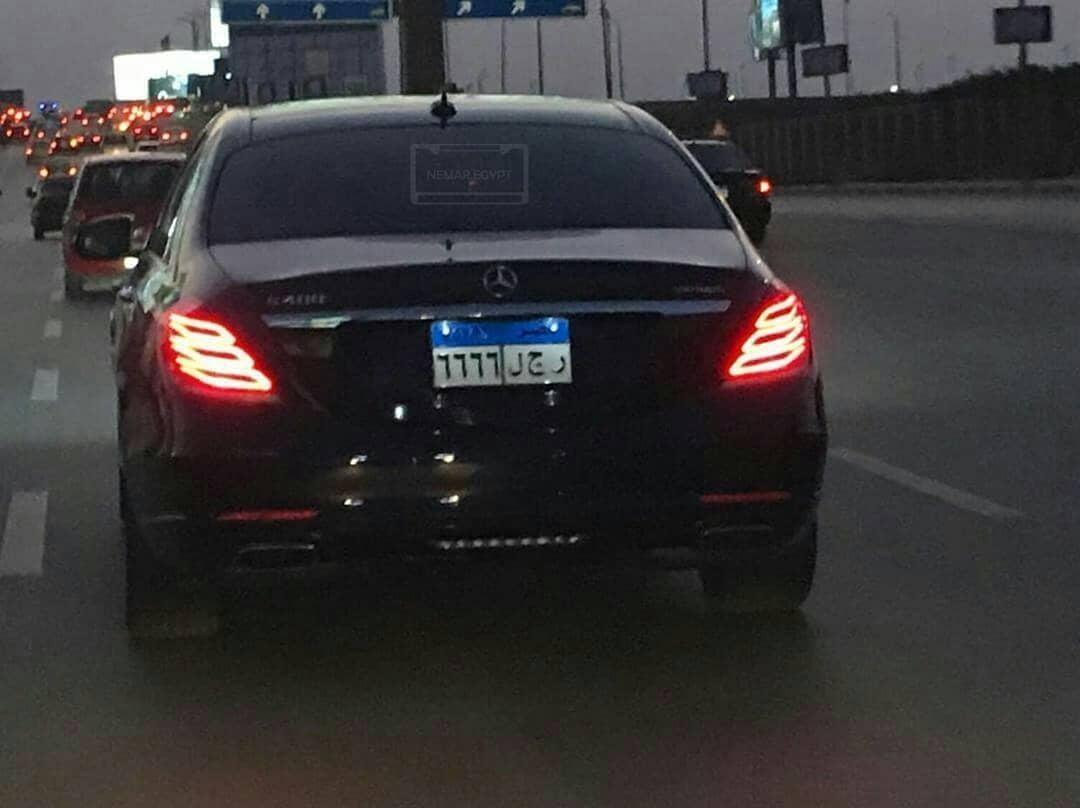6: (468, 350, 485, 378), (484, 349, 499, 379), (452, 352, 468, 380), (435, 352, 451, 379)
Laam: (507, 350, 525, 379)
License Plate: (427, 316, 575, 392)
R: (552, 354, 568, 377)
car: (105, 98, 832, 643), (64, 152, 145, 289), (691, 140, 773, 224), (33, 179, 67, 233), (126, 124, 161, 152), (42, 158, 77, 184), (158, 122, 190, 145), (78, 128, 105, 146), (53, 136, 78, 153), (27, 140, 51, 156), (30, 128, 57, 140), (7, 124, 27, 136)
geem: (525, 349, 547, 378)
